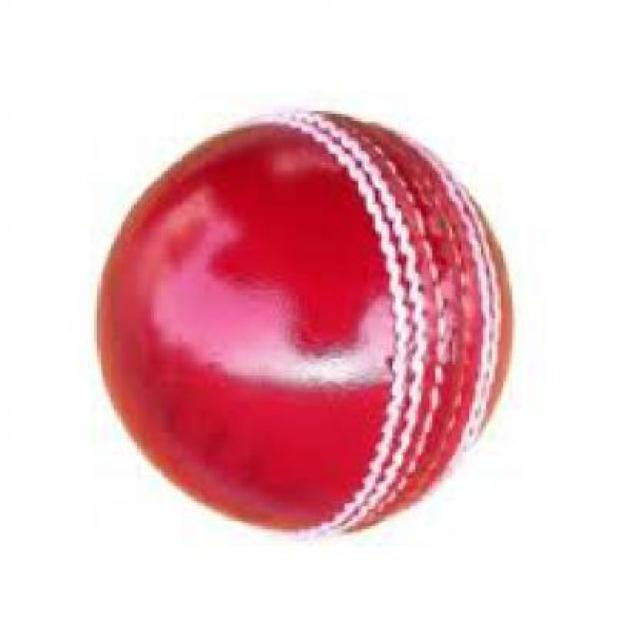ball: (71, 76, 540, 590)
